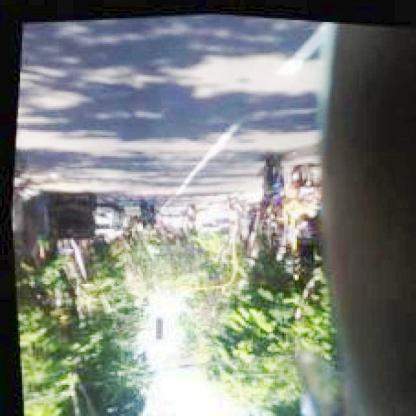Traffic Light -Yellow-: (286, 244, 300, 272), (151, 315, 164, 341)
